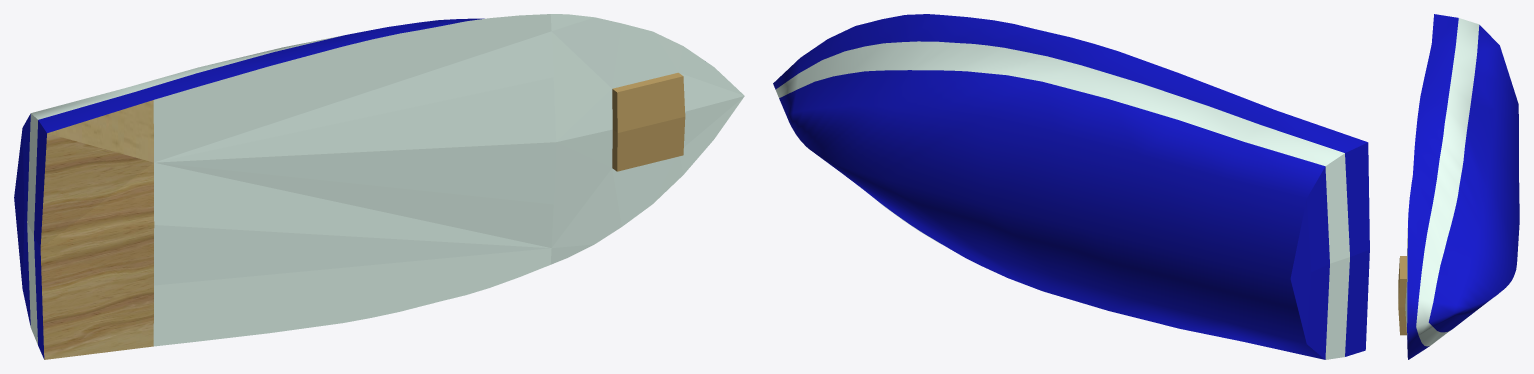
The model's file is simpleHull.obj.
3 renders of one model, left to right at view 1: azimuth 30°, elevation 25°; view 2: azimuth 150°, elevation 25°; view 3: azimuth 270°, elevation 25°, orthographic. The views are drawn at different scales.
Visible parts, largest first — view 1: frontRight_Cabin_Plane.001_Windows.006; view 2: frontRight_Cabin_Plane.001_Windows.006; view 3: frontRight_Cabin_Plane.001_Windows.006.
Boxes of the visible parts, x1=… form: frontRight_Cabin_Plane.001_Windows.006: x1=14, y1=14, x2=744, y2=359; frontRight_Cabin_Plane.001_Windows.006: x1=773, y1=14, x2=1369, y2=359; frontRight_Cabin_Plane.001_Windows.006: x1=1398, y1=14, x2=1519, y2=359.
Bounding box in the file's own units: 5.2 × 2.02 × 1.13.
